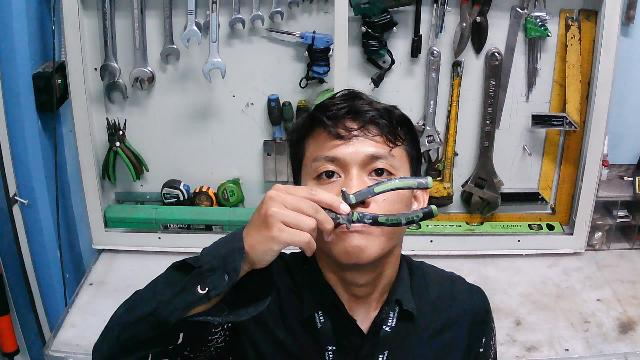tang_kombinasi: (307, 173, 442, 227)
